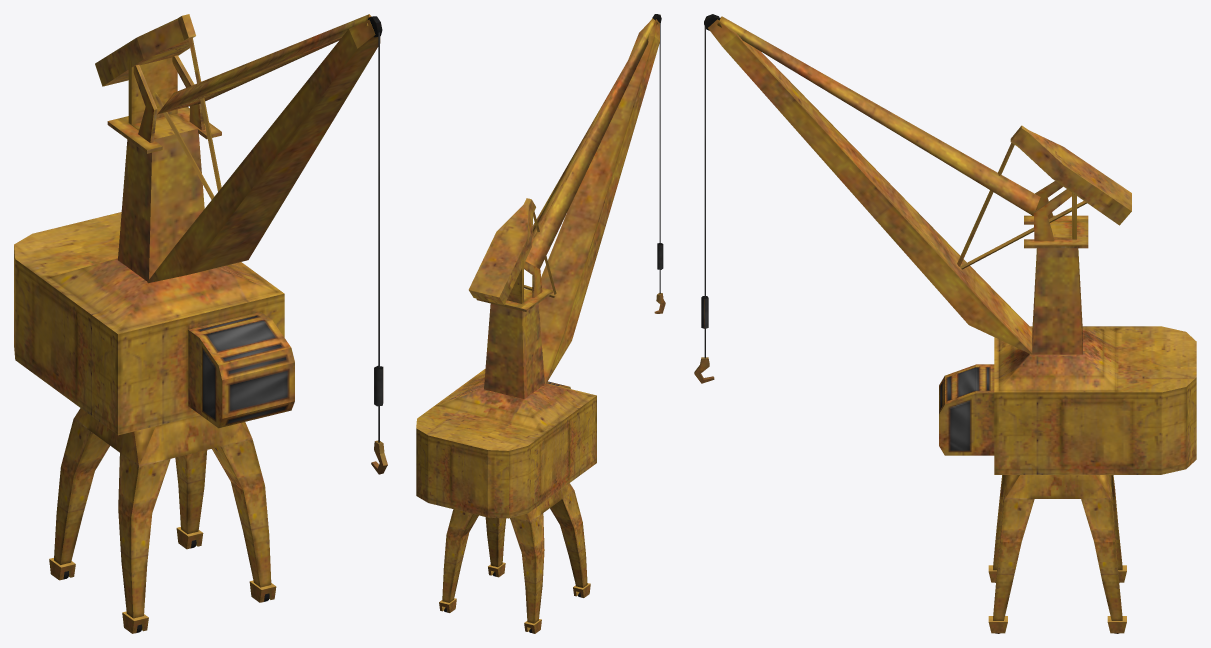
File: doc_crane.FBX
3 views of the same model, side by side, from view 1: azimuth 30°, elevation 25°; view 2: azimuth 150°, elevation 25°; view 3: azimuth 270°, elevation 25° (orthographic). The views are drawn at different scales.
Parts seen in each view (by area): view 1: crane; view 2: crane; view 3: crane.
Boxes of the visible parts, bbox=[...] form: crane: bbox=[14, 14, 387, 633]; crane: bbox=[416, 14, 665, 633]; crane: bbox=[694, 14, 1196, 633].
Size of the model in its own units: 613 by 2560 by 1967.
